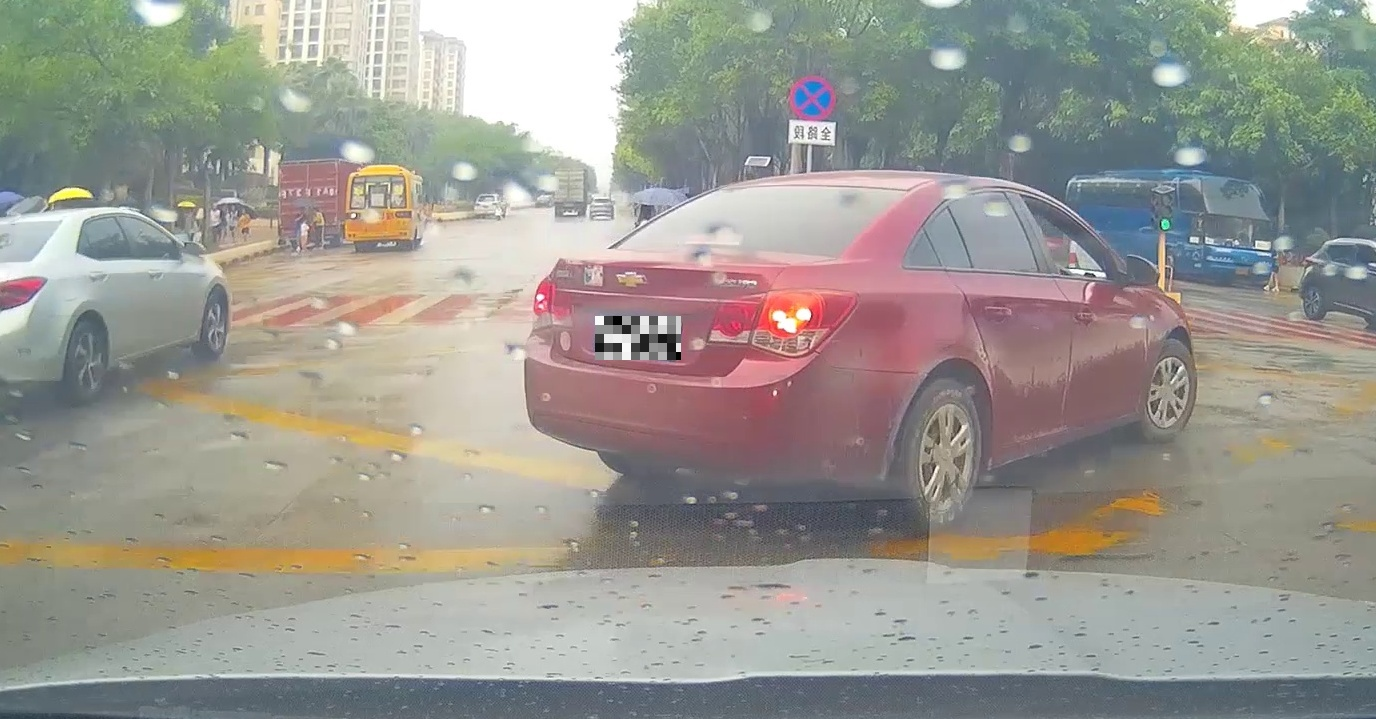L_light: (534, 274, 569, 318), (346, 212, 359, 218)
R_light: (707, 288, 858, 358), (395, 211, 412, 217)
T_light: (687, 237, 743, 246), (372, 176, 385, 179)
day-no: (345, 166, 413, 252)
day-right: (524, 175, 910, 533)
plate_1: (595, 316, 681, 360)
